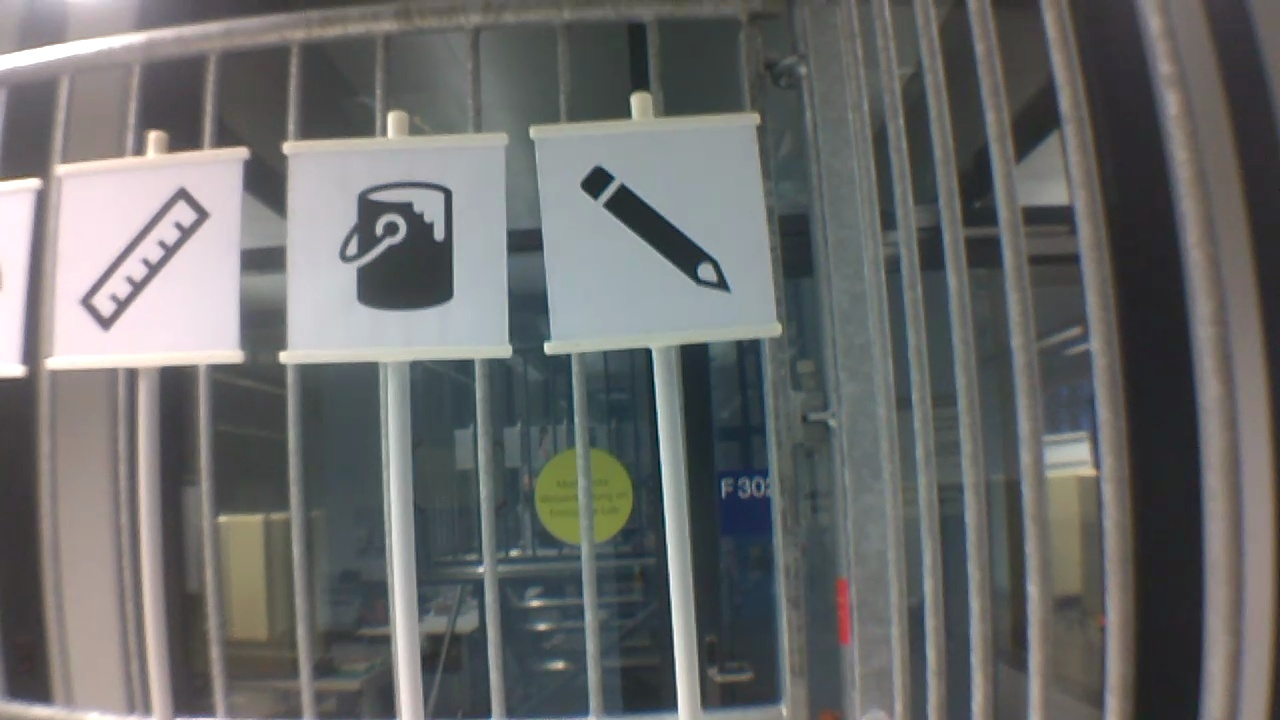bucket: (343, 175, 462, 324)
pencil: (578, 152, 741, 298)
ruler: (68, 186, 224, 341)
